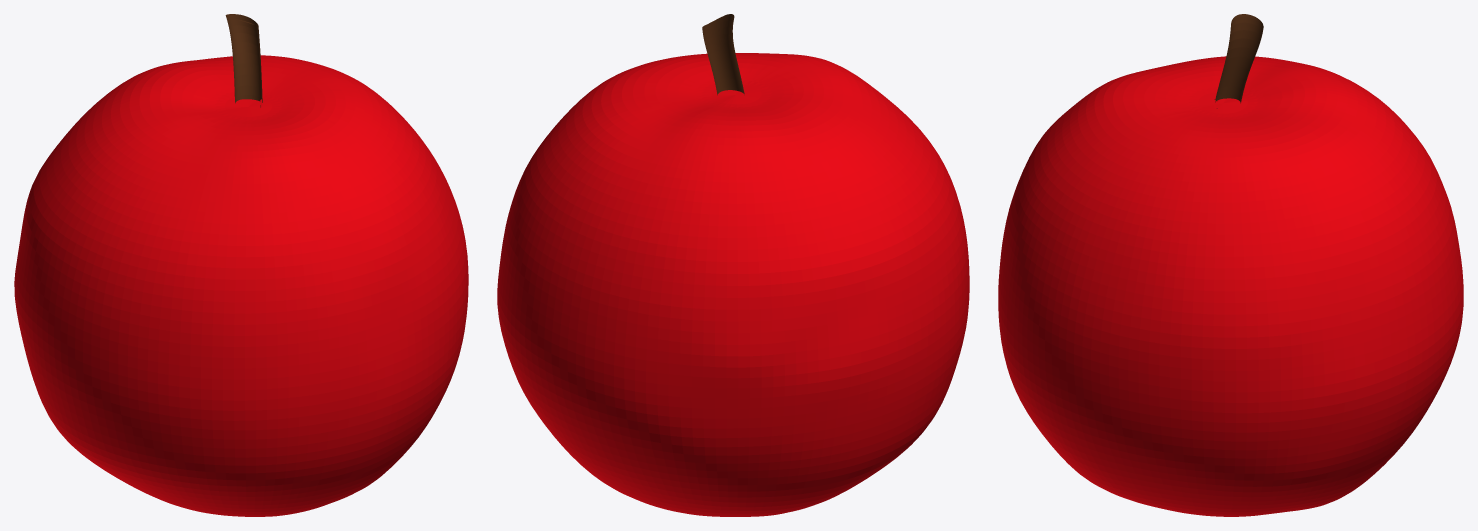
Rendered from bapple.glb.
3 renders of one model, left to right at view 1: azimuth 30°, elevation 25°; view 2: azimuth 150°, elevation 25°; view 3: azimuth 270°, elevation 25°, orthographic. The views are drawn at different scales.
Visible parts, largest first — view 1: Sphere; view 2: Sphere; view 3: Sphere.
Part boxes in pixels (x1=…): Sphere: x1=14, y1=14, x2=468, y2=516; Sphere: x1=497, y1=14, x2=969, y2=516; Sphere: x1=998, y1=14, x2=1463, y2=516.
Size of the model in its own units: 1.87 by 2.04 by 1.87.
